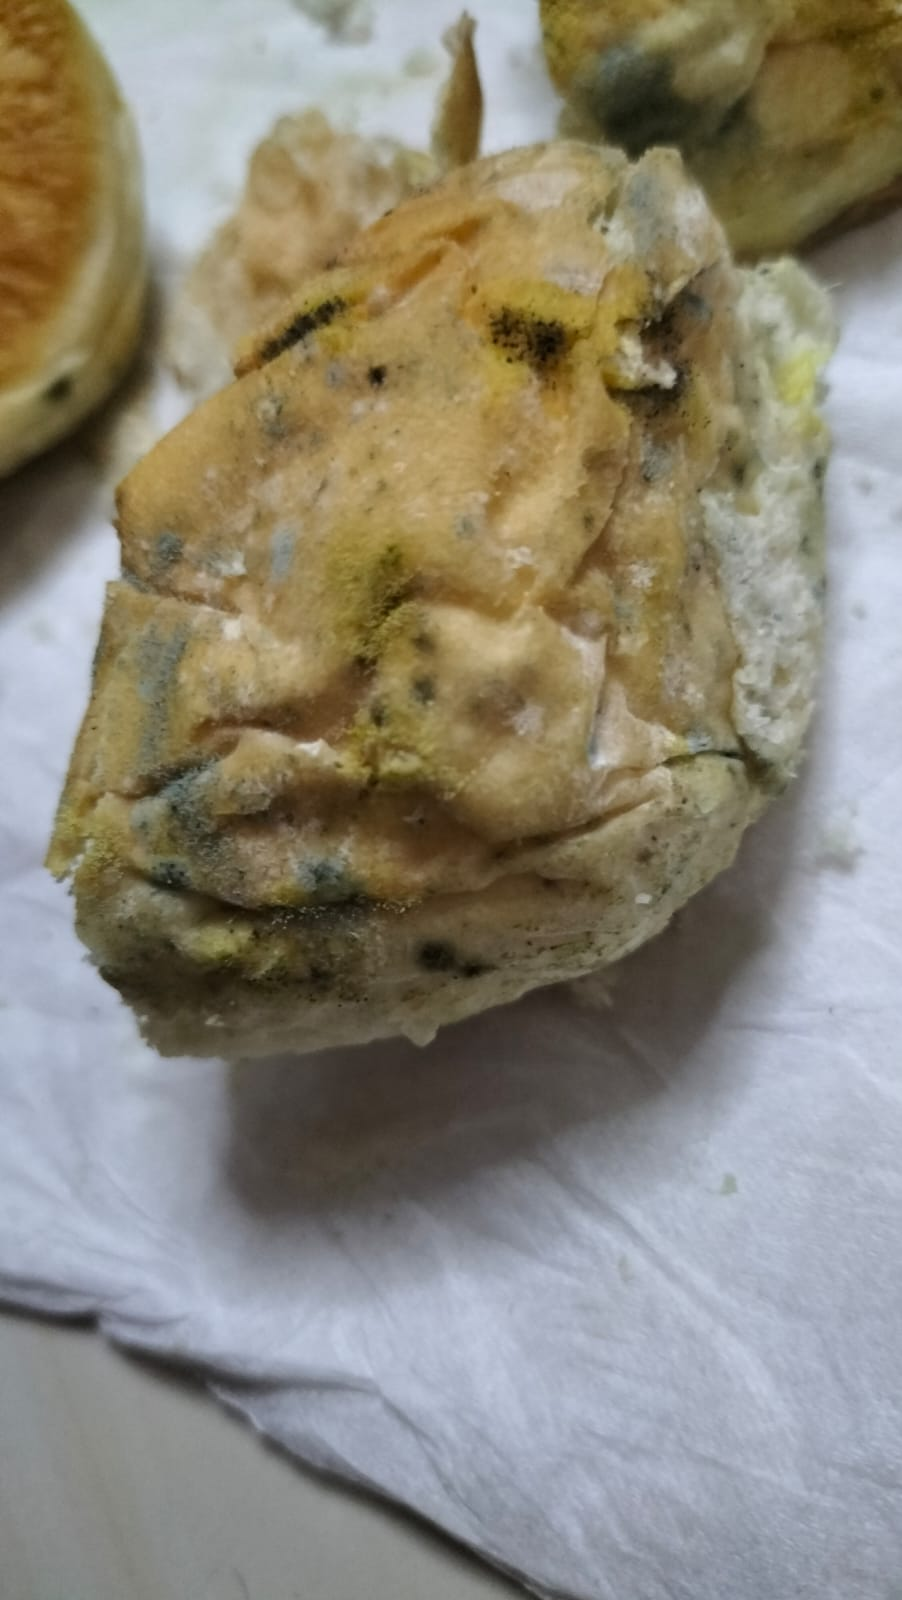mold_bread: (335, 530, 450, 791), (111, 495, 208, 766), (469, 278, 597, 401), (153, 784, 235, 886), (627, 276, 708, 373), (279, 853, 378, 925), (264, 284, 339, 362), (412, 927, 501, 992), (263, 522, 307, 612), (360, 349, 407, 398)
